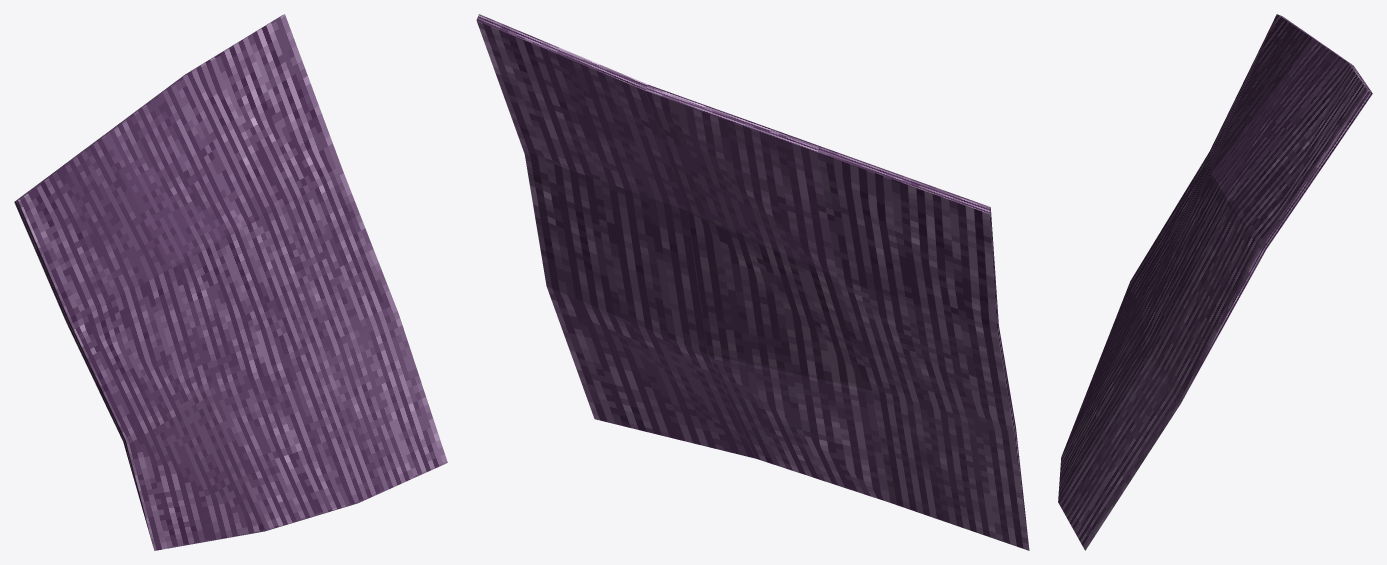
Rendered from Stoffa_Vera.fbx.
3 views of the same model, side by side, from view 1: azimuth 30°, elevation 25°; view 2: azimuth 150°, elevation 25°; view 3: azimuth 270°, elevation 25° (orthographic). The views are drawn at different scales.
Visible parts, largest first — view 1: Cube.064; view 2: Cube.064; view 3: Cube.064.
Part boxes in pixels (x1,y1,x2,y2): Cube.064: (14, 14, 447, 550); Cube.064: (476, 14, 1029, 550); Cube.064: (1058, 14, 1372, 550).
Size of the model in its own units: 0.0438 by 0.0465 by 0.0291.
Materials: 1 (1 with a texture image).
